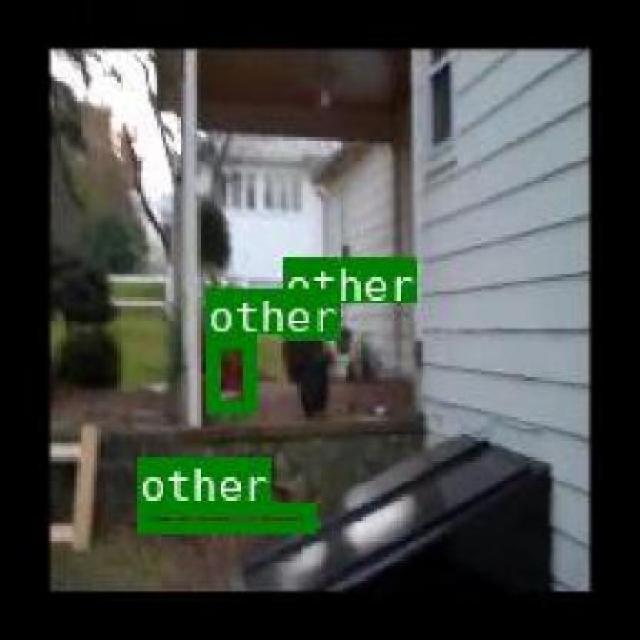other: (137, 502, 314, 530), (204, 332, 253, 410), (280, 300, 331, 337)
